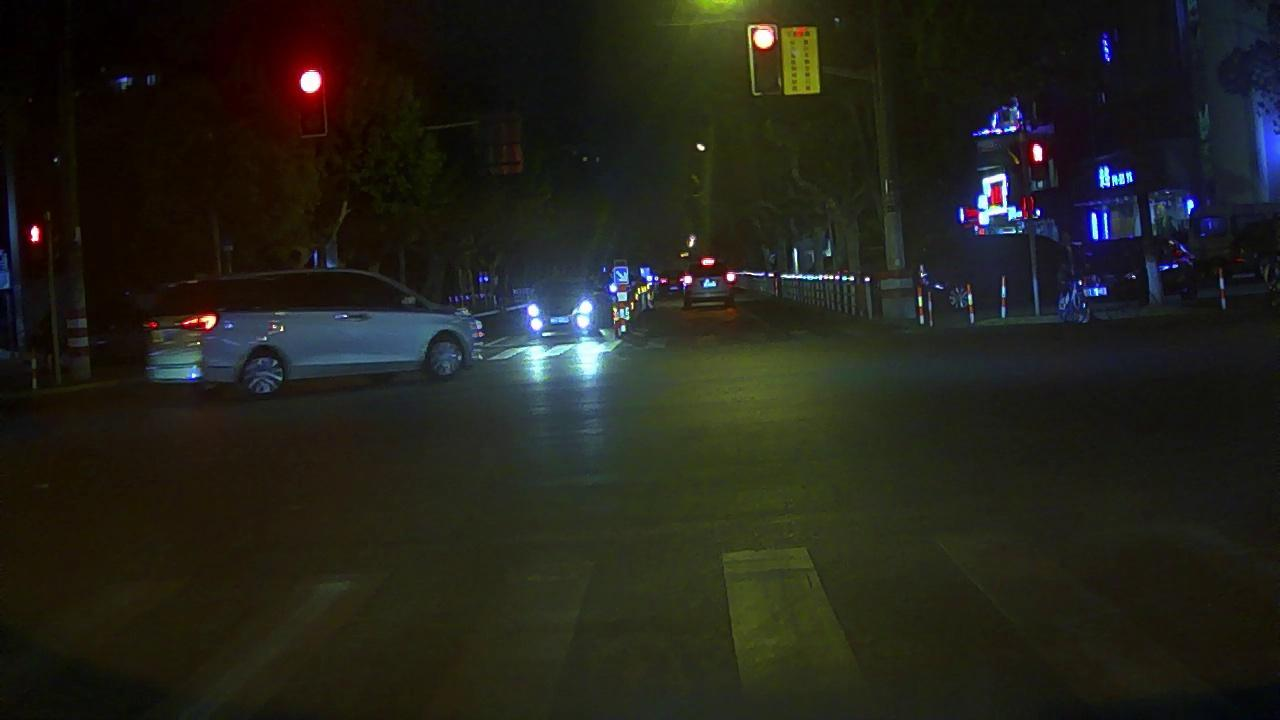traffic_light: (749, 25, 784, 97), (297, 69, 323, 136)
